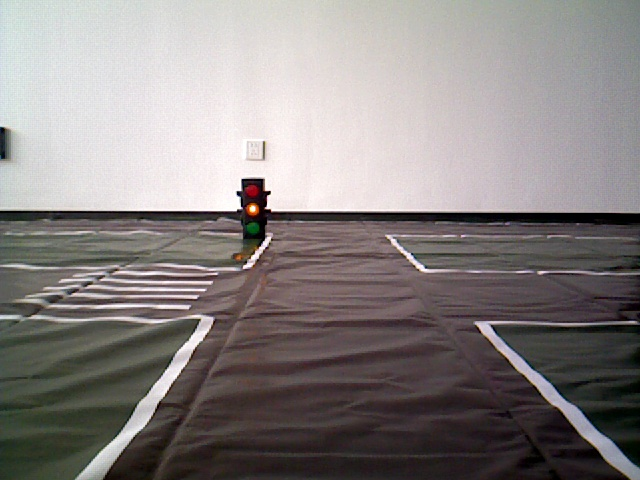yellow: (238, 176, 268, 247)
